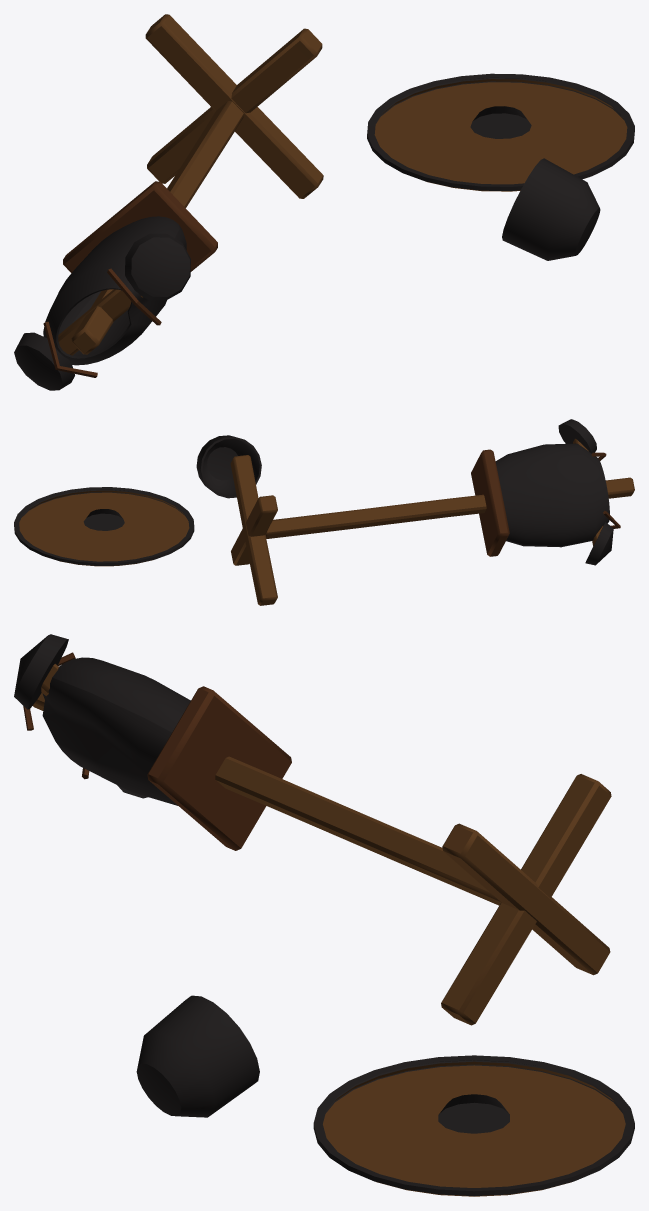
Rendered from ruestungsstaender_kaputt.glb.
3 renders of one model, top to bottom at view 1: azimuth 30°, elevation 25°; view 2: azimuth 150°, elevation 25°; view 3: azimuth 270°, elevation 25°, orthographic. The views are drawn at different scales.
Visible parts, largest first — view 1: ruestungsstaender_kaputt; view 2: ruestungsstaender_kaputt; view 3: ruestungsstaender_kaputt.
Boxes of the visible parts, <box> form: ruestungsstaender_kaputt: <box>14,14,634,390</box>; ruestungsstaender_kaputt: <box>14,419,634,605</box>; ruestungsstaender_kaputt: <box>14,634,634,1196</box>.
Size of the model in its own units: 2.2 by 0.5046 by 1.35.
